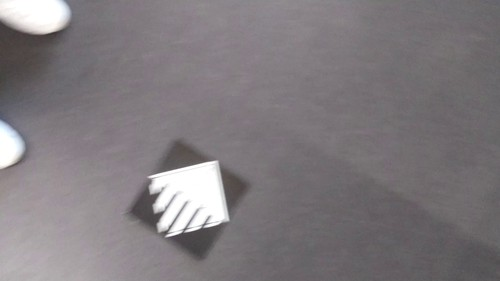misgoods: (148, 162, 234, 239)
